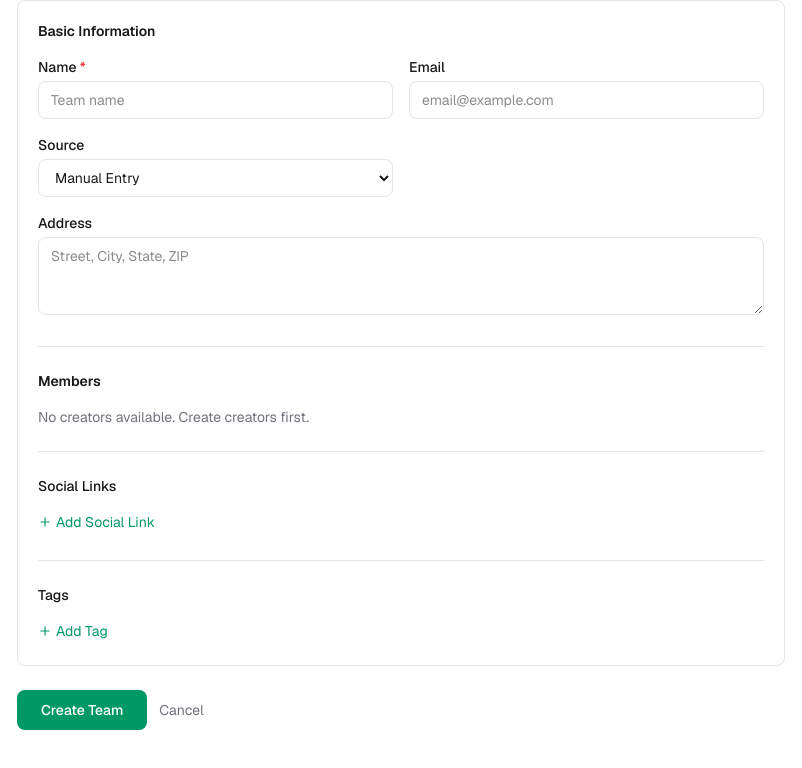
Scenario: TeamForm › validates required name
Click the button "Create Team" at [82, 710], box [17, 690, 147, 730]
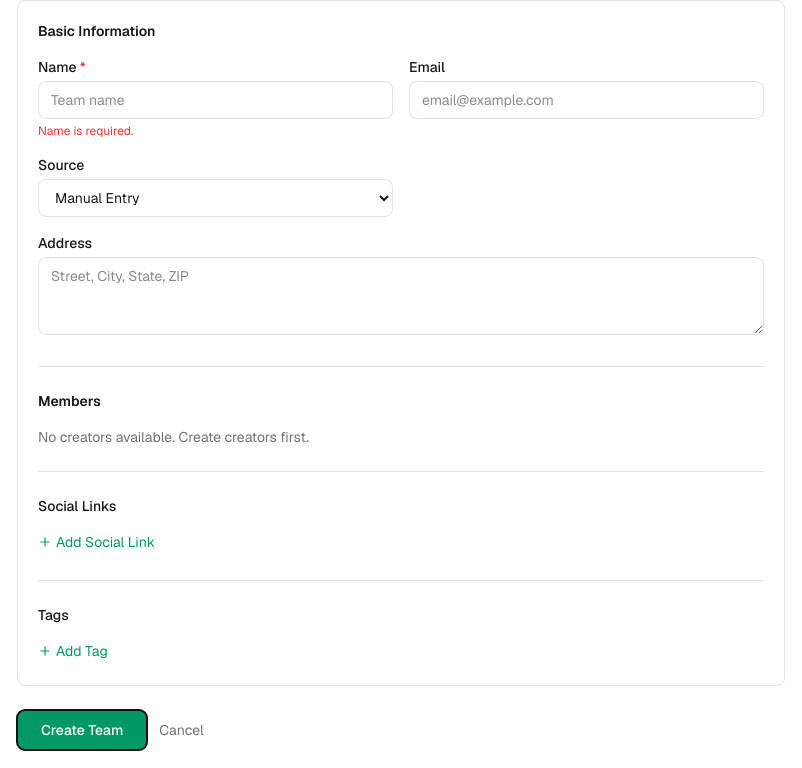
Result: the text "Name is required." is shown at [38, 123, 133, 139]
